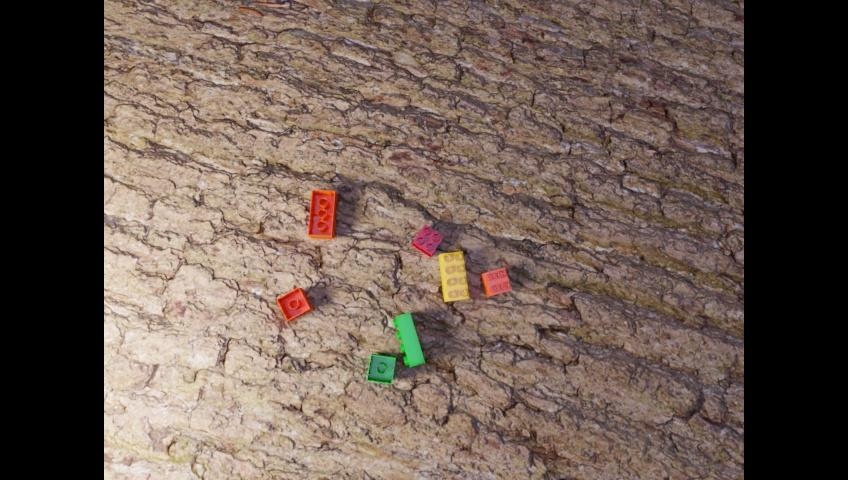2x2_green: (366, 353, 395, 383)
2x2_orange: (276, 286, 312, 320), (480, 267, 510, 296)
2x2_red: (412, 223, 443, 257)
4x2_green: (392, 312, 423, 366)
4x2_orange: (307, 189, 336, 238)
4x2_yellow: (438, 251, 468, 301)
